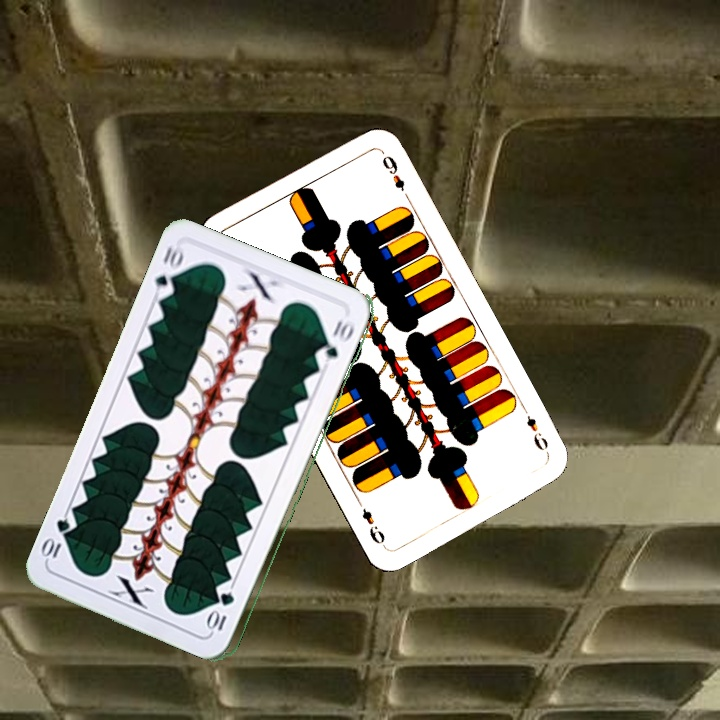E9: (519, 403, 553, 459)
G10: (150, 243, 187, 301), (207, 587, 237, 635)
